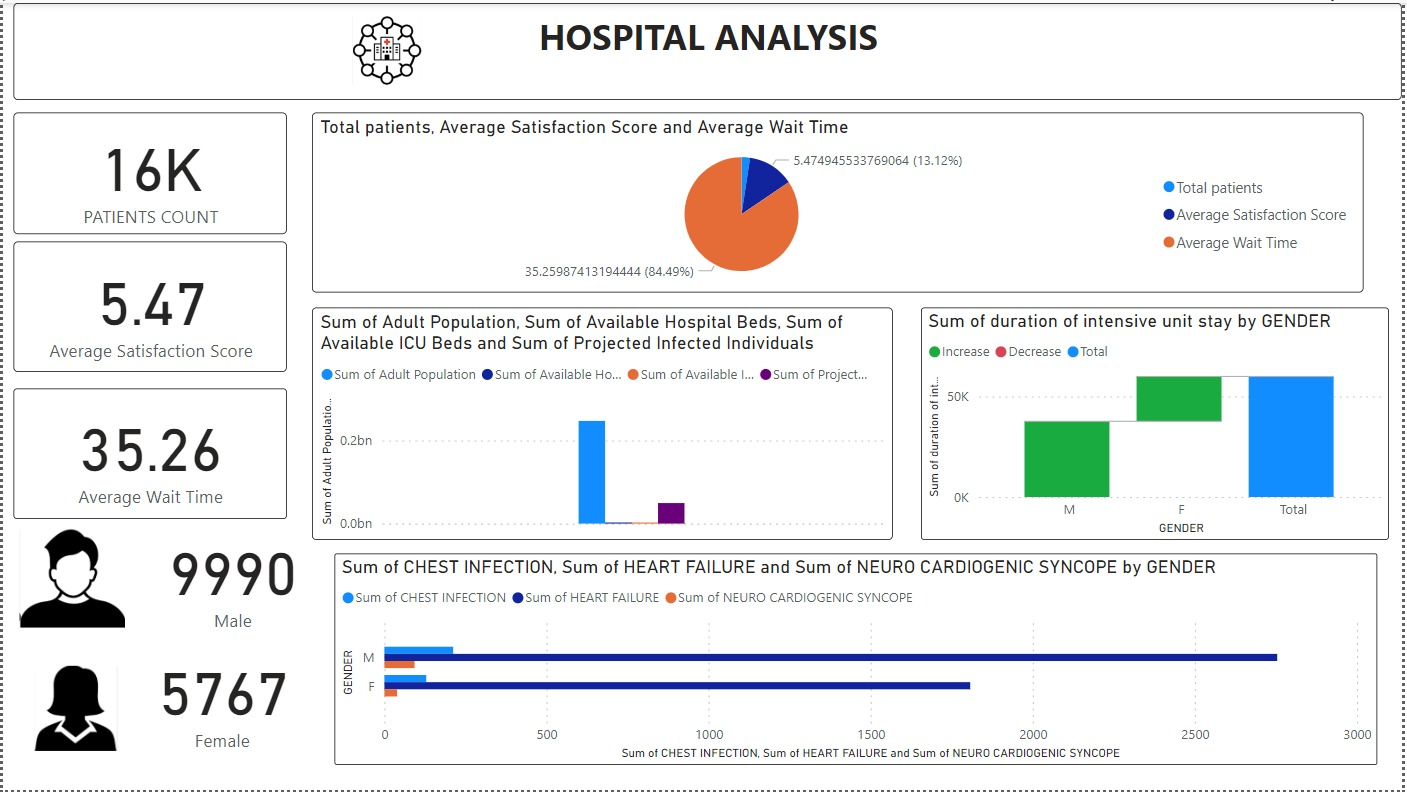

What the dashboard file says about the page in this screenshot:
{"tool":"powerbi","page":{"name":"hospital database","canvas":[1280,720],"ordinal":4},"visuals":[{"type":"textbox","box":[10,0,1270,88.6],"z":0},{"type":"card","fields":{"Values":["HDHI Admission data.TOTAL"]},"box":[9.6,100.2,249.8,111.2],"z":1000},{"type":"card","fields":{"Values":["HDHI Admission data.Male"]},"box":[107,472.1,205.8,107],"z":2000},{"type":"card","fields":{"Values":["HDHI Admission data.Female"]},"box":[97.4,579.1,205.8,112.5],"z":3000},{"type":"waterfallChart","fields":{"Category":["HDHI Admission data.GENDER"],"Y":["Sum(HDHI Admission data.duration of intensive unit stay)"]},"box":[839.9,278.6,428.2,212.7],"z":4000},{"type":"clusteredBarChart","fields":{"Y":["Sum(HDHI Admission data.CHEST INFECTION)","Sum(HDHI Admission data.HEART FAILURE)","Sum(HDHI Admission data.NEURO CARDIOGENIC SYNCOPE)"],"Category":["HDHI Admission data.GENDER"]},"box":[303.3,503.6,953.8,193.5],"z":5000},{"type":"card","fields":{"Values":["Calculations.Average Satisfaction Score"]},"box":[9.6,218.2,249.8,119.4],"z":6000},{"type":"card","fields":{"Values":["Calculations.Average Wait Time"]},"box":[9.6,352.7,249.8,119.4],"z":7000},{"type":"image","box":[9.6,472.1,107,107],"z":8000},{"type":"image","box":[0,601.1,134.5,89.2],"z":9000},{"type":"clusteredColumnChart","fields":{"Y":["Sum(HRR BED.Adult Population)","Sum(HRR BED.Available Hospital Beds)","Sum(HRR BED.Available ICU Beds)","Sum(HRR BED.Projected Infected Individuals)"]},"box":[282.7,278.6,531.1,212.7],"z":10000},{"type":"pieChart","fields":{"Y":["Calculations.Total patients","Calculations.Average Satisfaction Score","Calculations.Average Wait Time"]},"box":[282.7,100.2,962,164.7],"z":11000},{"type":"image","box":[360.9,6.9,76.9,72.7],"z":12000}]}

Visuals, with their boxes in screenshot pixels (x1, y1, x2, y2), scaled from the page's 1280x720 canvas onto the 1407x792 screenshot:
textbox: 11,0,1406,97
card - HDHI Admission data.TOTAL: 11,110,285,233
card - HDHI Admission data.Male: 118,519,344,637
card - HDHI Admission data.Female: 107,637,333,761
waterfallChart - HDHI Admission data.GENDER x Sum(HDHI Admission data.duration of intensive unit stay): 923,306,1394,540
clusteredBarChart - Sum(HDHI Admission data.CHEST INFECTION) x Sum(HDHI Admission data.HEART FAILURE): 333,554,1382,767
card - Calculations.Average Satisfaction Score: 11,240,285,371
card - Calculations.Average Wait Time: 11,388,285,519
image: 11,519,128,637
image: 0,661,148,759
clusteredColumnChart - Sum(HRR BED.Adult Population) x Sum(HRR BED.Available Hospital Beds): 311,306,895,540
pieChart - Calculations.Total patients x Calculations.Average Satisfaction Score: 311,110,1368,291
image: 397,8,481,88
